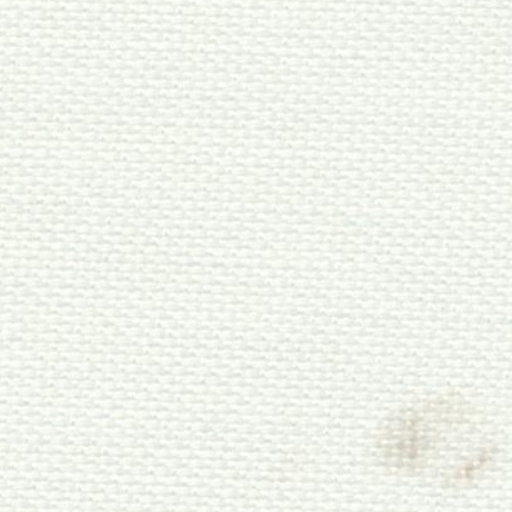WuZi: (373, 370, 500, 503)
